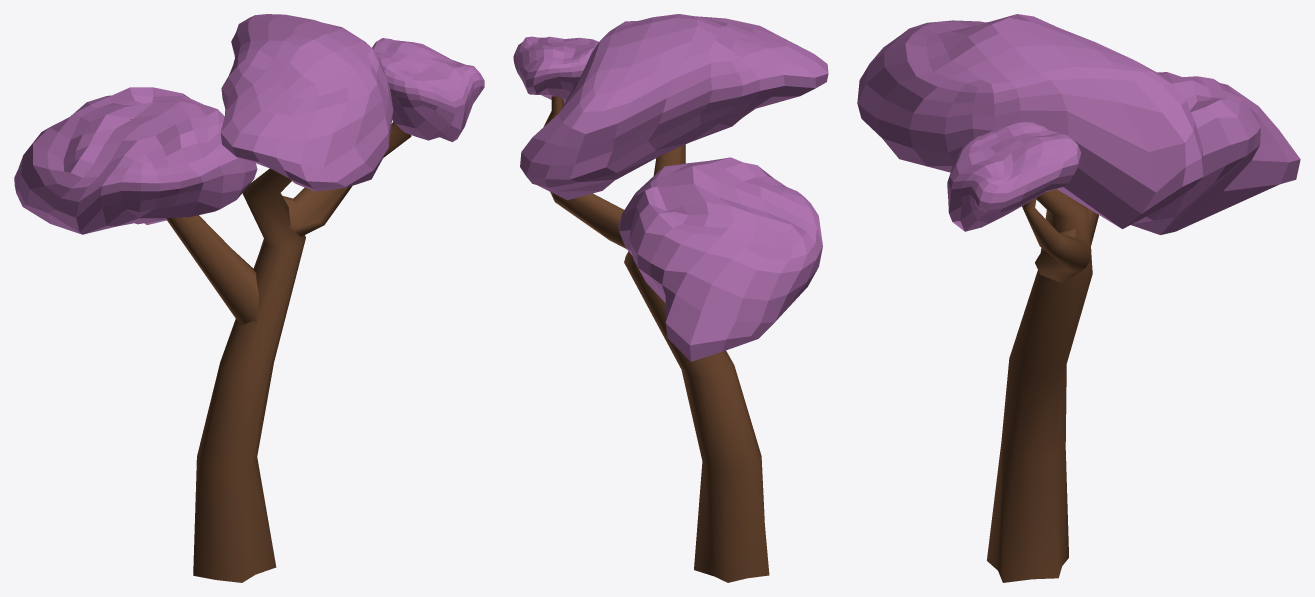
The model's file is treeMedium.fbx.
3 renders of one model, left to right at view 1: azimuth 30°, elevation 25°; view 2: azimuth 150°, elevation 25°; view 3: azimuth 270°, elevation 25°, orthographic. The views are drawn at different scales.
Visible parts, largest first — view 1: treeMedium; view 2: treeMedium; view 3: treeMedium.
Part boxes in pixels (left/top/right/bottom): treeMedium: left=14, top=14, right=484, bottom=582; treeMedium: left=513, top=14, right=828, bottom=582; treeMedium: left=857, top=14, right=1300, bottom=582.
Size of the model in its own units: 2.89 by 4 by 2.82.
